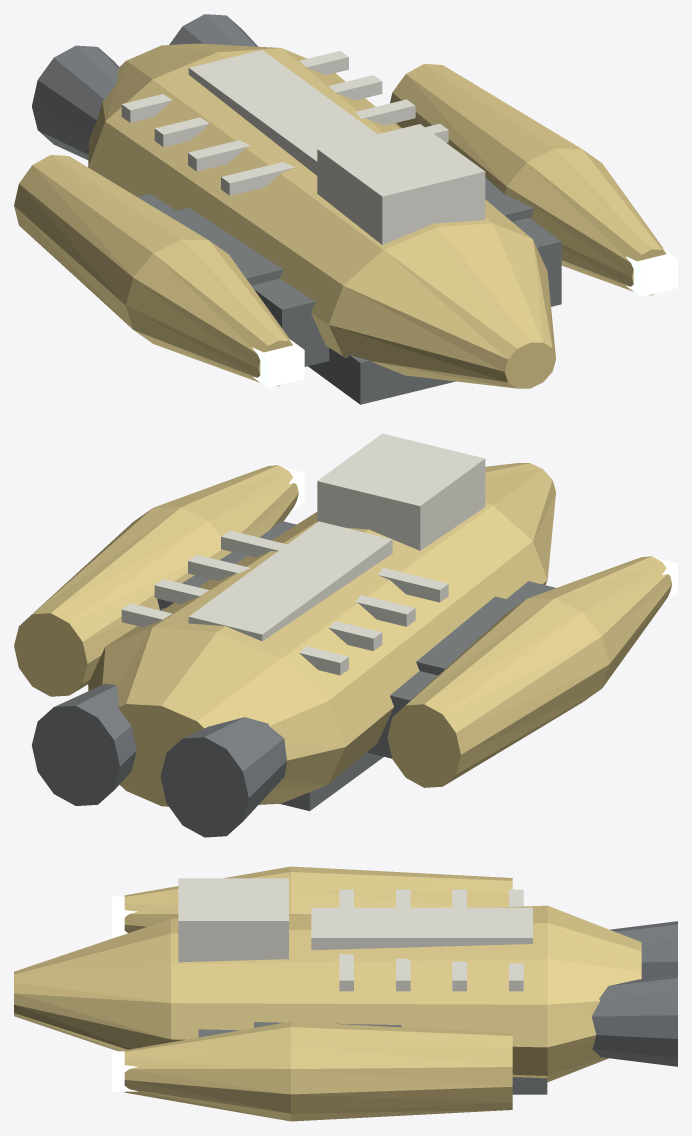
3 views of the same model, one above another, from view 1: azimuth 30°, elevation 25°; view 2: azimuth 150°, elevation 25°; view 3: azimuth 270°, elevation 25° (orthographic). The views are drawn at different scales.
Bounding box in the file's own units: 4.89 × 1.88 × 6.83.
